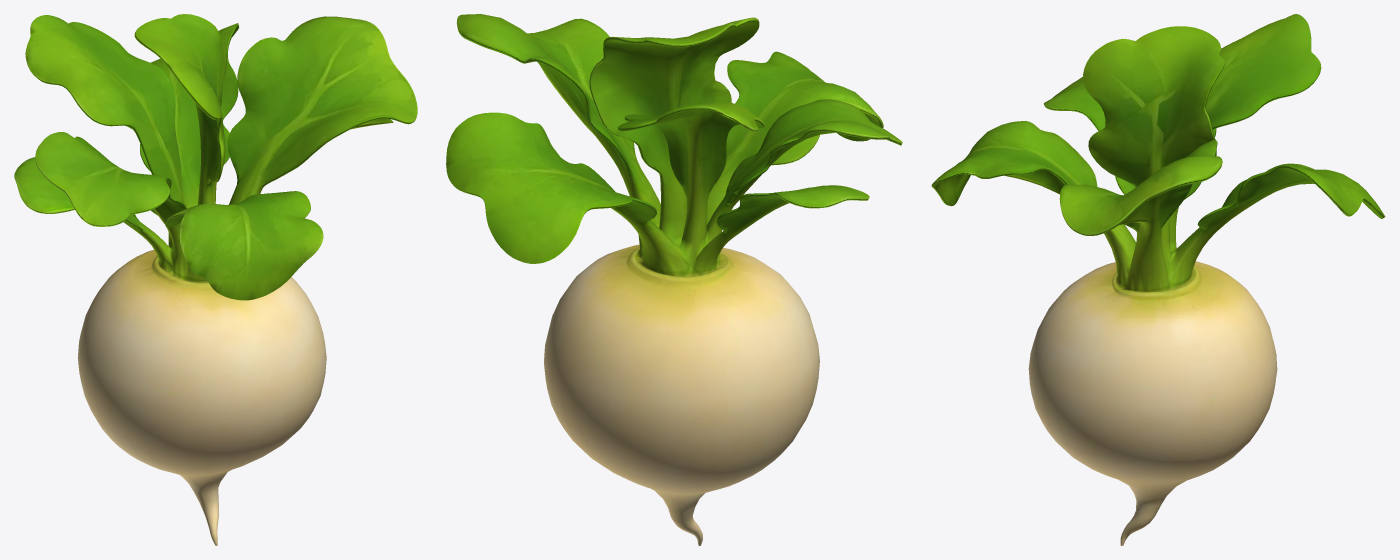
The model's file is turnip.glb.
The picture shows the model from 3 angles, left to right: view 1: azimuth 30°, elevation 25°; view 2: azimuth 150°, elevation 25°; view 3: azimuth 270°, elevation 25°; orthographic projection. The views are drawn at different scales.
Parts seen in each view (by area): view 1: tripo_node_2f9f01bd-0584-494f-b8c2-7a57e60a31f7; view 2: tripo_node_2f9f01bd-0584-494f-b8c2-7a57e60a31f7; view 3: tripo_node_2f9f01bd-0584-494f-b8c2-7a57e60a31f7.
Boxes of the visible parts, x1,y1,x2,y2 form: tripo_node_2f9f01bd-0584-494f-b8c2-7a57e60a31f7: [14, 14, 417, 545]; tripo_node_2f9f01bd-0584-494f-b8c2-7a57e60a31f7: [446, 14, 902, 545]; tripo_node_2f9f01bd-0584-494f-b8c2-7a57e60a31f7: [931, 14, 1385, 545].
Size of the model in its own units: 0.7661 by 0.9995 by 0.8276.
Materials: 1 (1 with a texture image).
